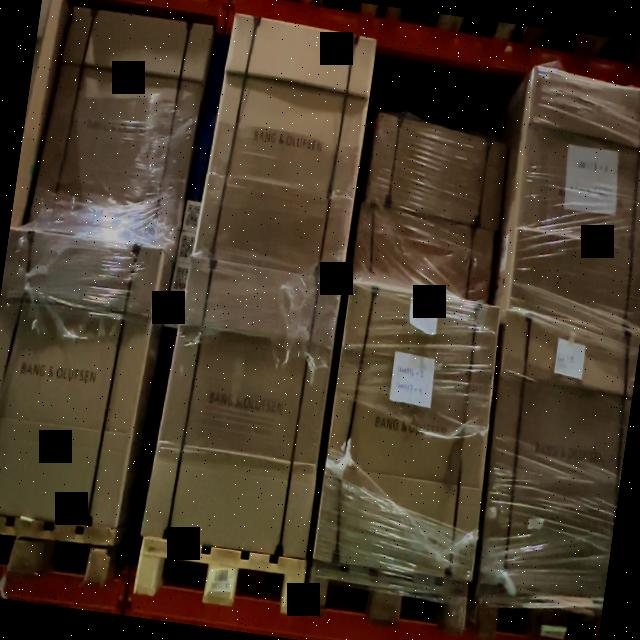box: (142, 253, 342, 553), (315, 285, 500, 582), (193, 13, 378, 280), (366, 118, 508, 233), (351, 207, 495, 306)
